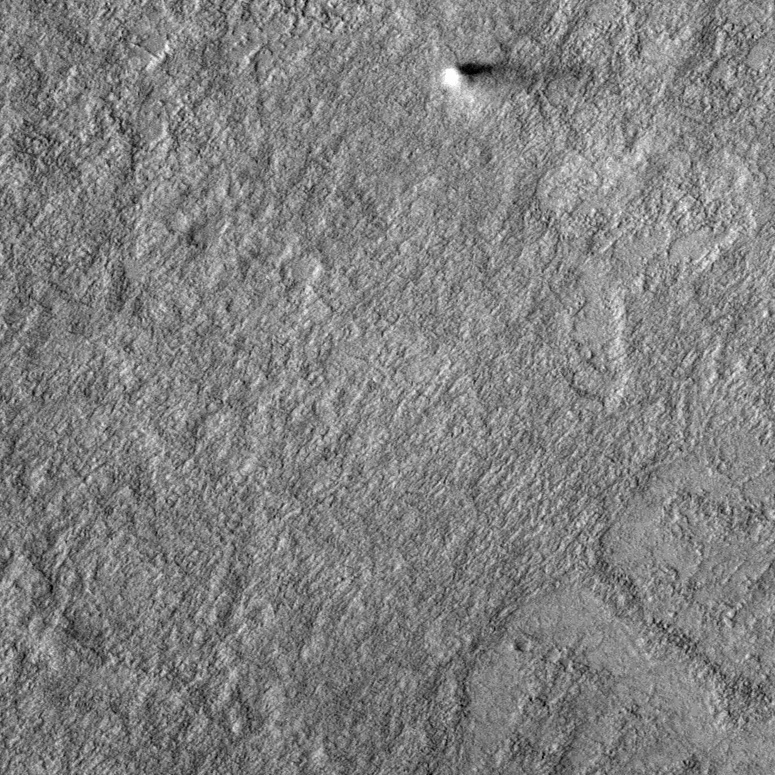dust_devil: (440, 60, 591, 90)
